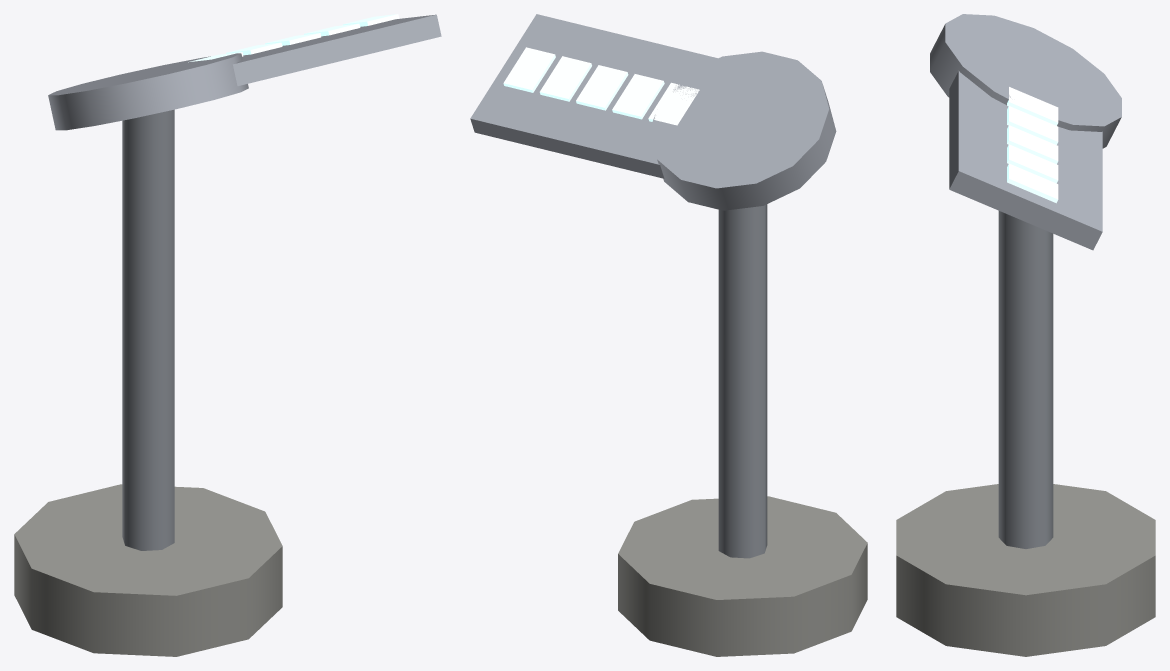
File: SM_DuelDummy.fbx
3 renders of one model, left to right at view 1: azimuth 30°, elevation 25°; view 2: azimuth 150°, elevation 25°; view 3: azimuth 270°, elevation 25°, orthographic. The views are drawn at different scales.
Parts seen in each view (by area): view 1: SM_DuelDummy; view 2: SM_DuelDummy; view 3: SM_DuelDummy.
Boxes of the visible parts, bbox=[...] form: SM_DuelDummy: bbox=[14, 14, 441, 656]; SM_DuelDummy: bbox=[470, 14, 867, 656]; SM_DuelDummy: bbox=[896, 14, 1155, 656].
Size of what is drawn, in the model's own units: 0.955 by 1.38 by 0.5706.
